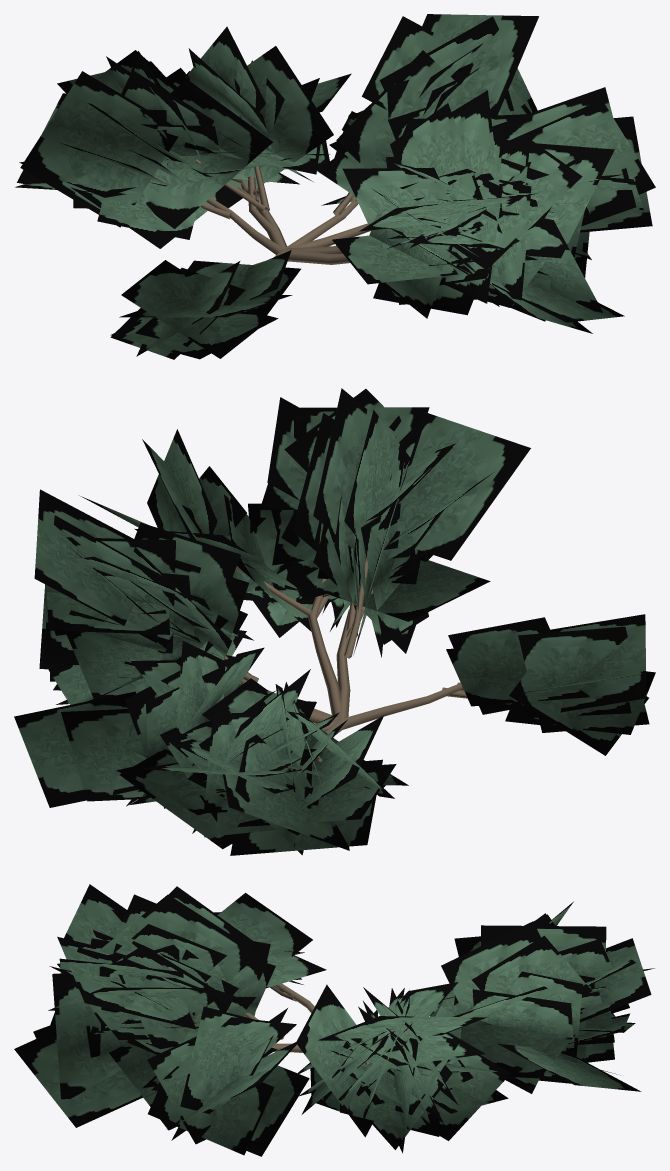
The model's file is juniper_1.glb.
3 renders of one model, top to bottom at view 1: azimuth 30°, elevation 25°; view 2: azimuth 150°, elevation 25°; view 3: azimuth 270°, elevation 25°, orthographic. The views are drawn at different scales.
Parts seen in each view (by area): view 1: juniper_1; view 2: juniper_1; view 3: juniper_1.
Part boxes in pixels (<box>): juniper_1: <box>15,14,655,359</box>; juniper_1: <box>14,388,655,855</box>; juniper_1: <box>14,884,654,1156</box>.
Bounding box in the file's own units: 3.17 × 1.28 × 3.66.
2 materials, 1 textured.
